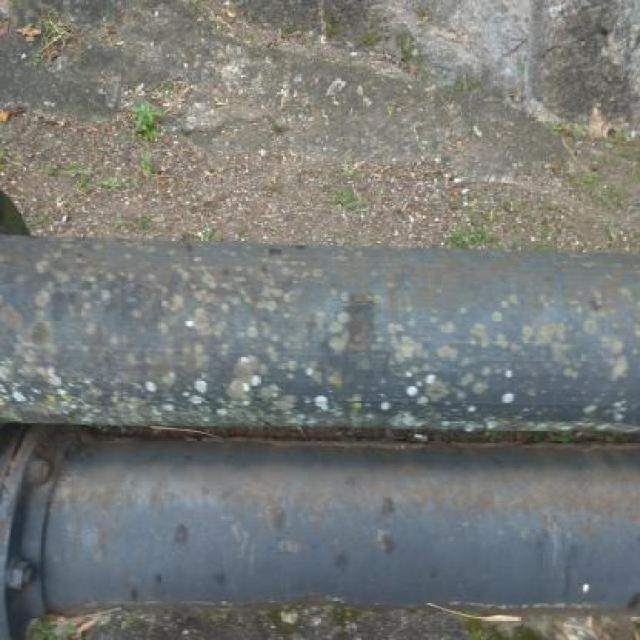gas: (3, 231, 640, 432)
